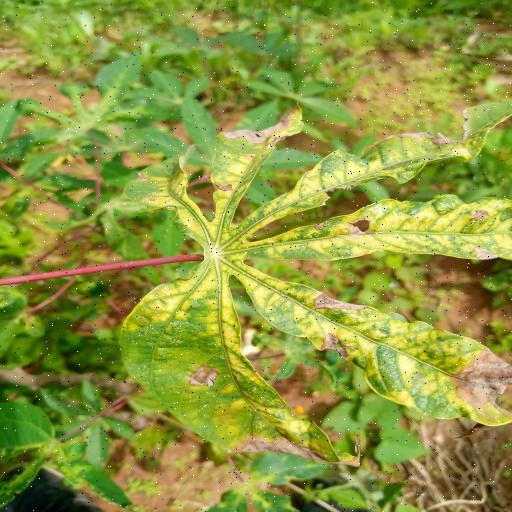Cassava_Brown_Leaf_Spot: (105, 105, 512, 468)
